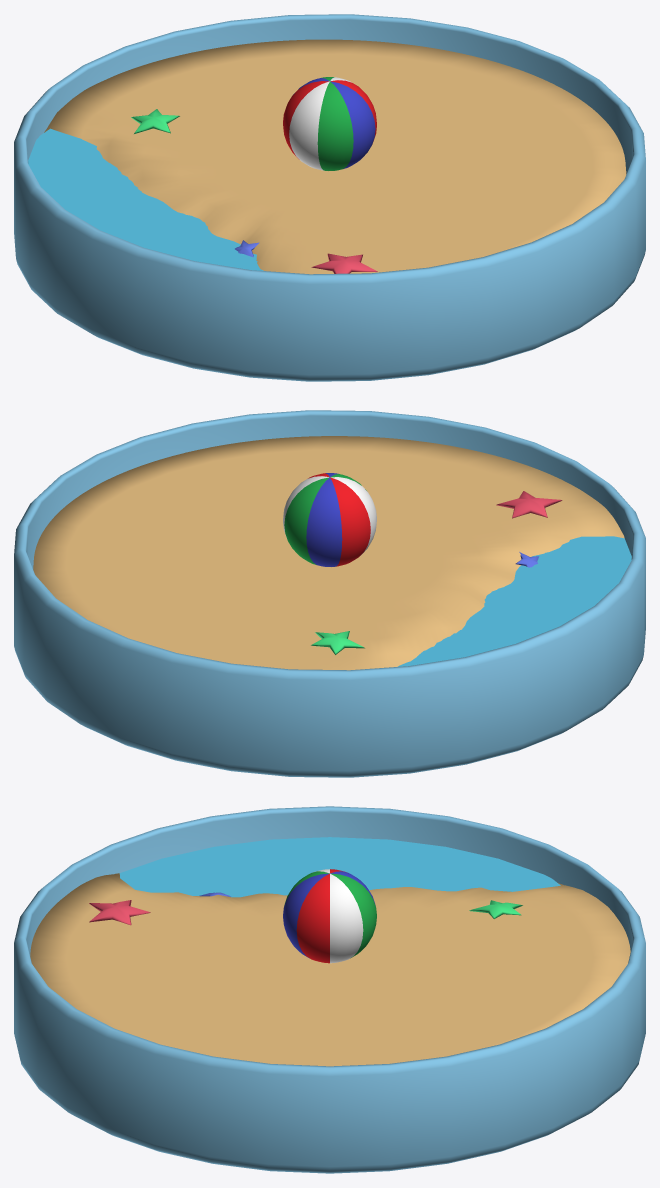
Rendered from mini-beach.glb.
3 renders of one model, top to bottom at view 1: azimuth 30°, elevation 25°; view 2: azimuth 150°, elevation 25°; view 3: azimuth 270°, elevation 25°, orthographic.
Visible parts, largest first — view 1: Sand, Bowl, Water, Beachball, Starfish-Red, Starfish-Green; view 2: Sand, Bowl, Water, Beachball, Starfish-Red, Starfish-Green; view 3: Bowl, Sand, Water, Beachball, Starfish-Red.
Part boxes in pixels (left/top/right/bottom): Sand: left=44, top=39, right=626, bottom=274; Bowl: left=14, top=14, right=645, bottom=381; Water: left=28, top=128, right=263, bottom=270; Beachball: left=283, top=77, right=376, bottom=170; Starfish-Red: left=311, top=253, right=377, bottom=273; Starfish-Green: left=131, top=109, right=179, bottom=133; Sand: left=33, top=436, right=624, bottom=670; Bowl: left=14, top=410, right=645, bottom=777; Water: left=397, top=536, right=631, bottom=666; Beachball: left=283, top=473, right=376, bottom=566; Starfish-Red: left=496, top=491, right=562, bottom=518; Starfish-Green: left=311, top=631, right=364, bottom=654; Bowl: left=14, top=806, right=645, bottom=1173; Sand: left=30, top=873, right=630, bottom=1066; Water: left=119, top=837, right=560, bottom=897; Beachball: left=283, top=869, right=376, bottom=963; Starfish-Red: left=89, top=900, right=150, bottom=925.
Bounding box in the file's own units: 4 × 1.19 × 4.
8 materials, 1 textured.
